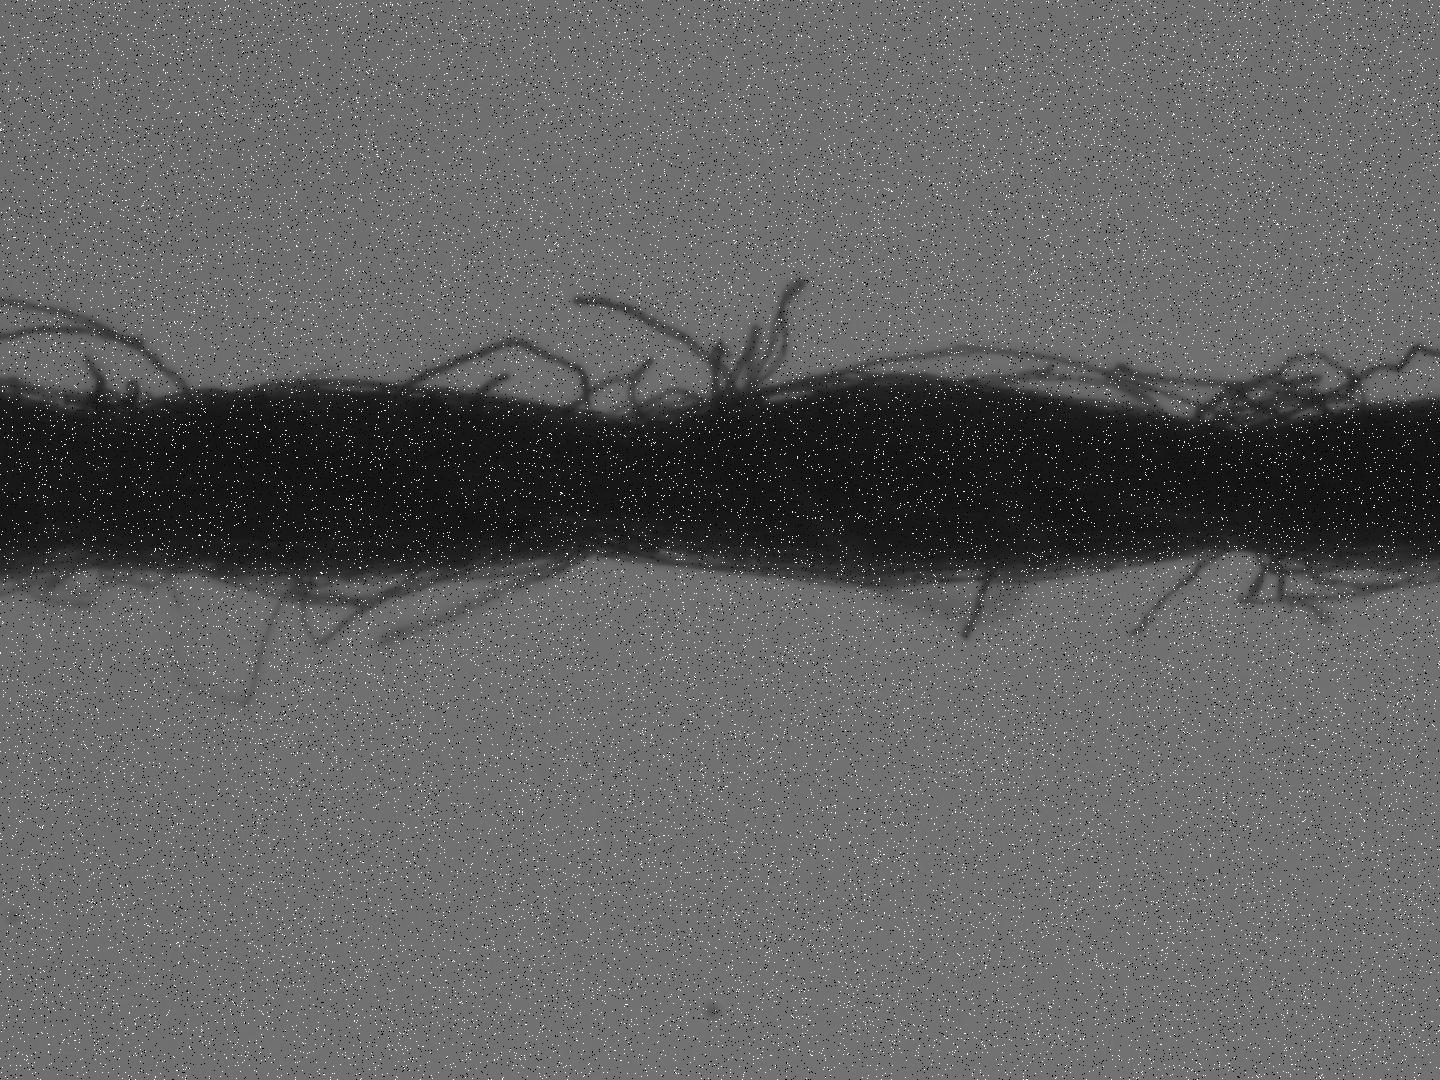loop_fiber: (1106, 347, 1378, 427), (207, 542, 509, 610), (721, 270, 813, 403), (1259, 547, 1434, 592), (565, 351, 658, 424), (620, 381, 706, 427), (96, 564, 181, 598)
protruding_fiber: (1124, 542, 1239, 640), (946, 557, 1003, 650)
